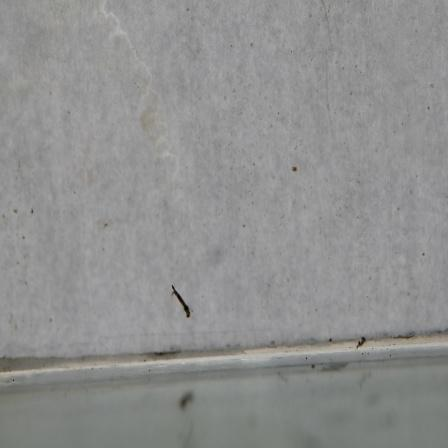Jentik-Nyamuk: (167, 284, 194, 321)
